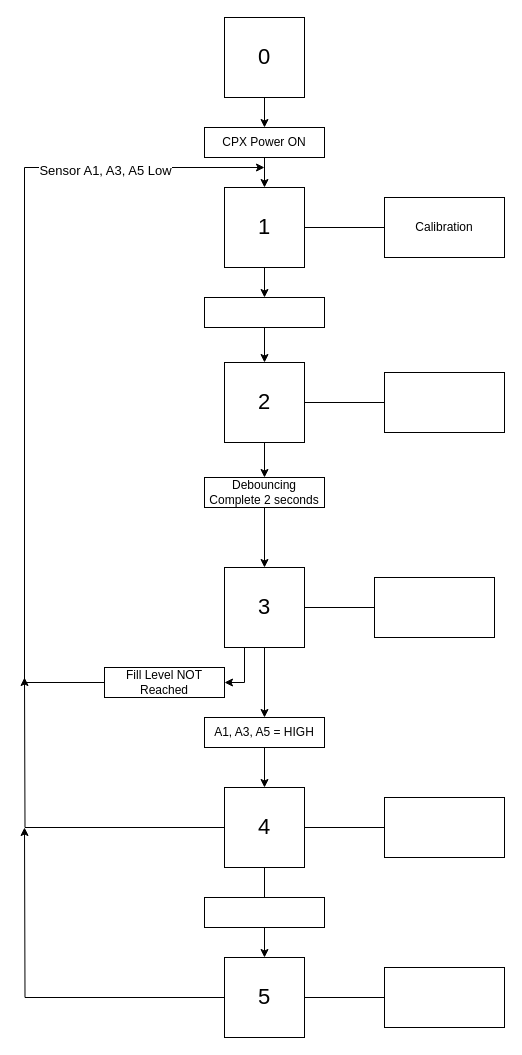
Some shapes in this 522 by 1055 pixel diagram are drawn without their labels. The shapes that lost their labels are listed below. From the top down, each one's centre as x and y in pixels, then its label:
point 264,312: Water Flows
point 444,402: Debouncing
point 434,607: Sensor Voting
point 444,827: CPX Red LED ON
point 264,912: Fill Level Reached
point 444,997: Pinch Valve Extends
